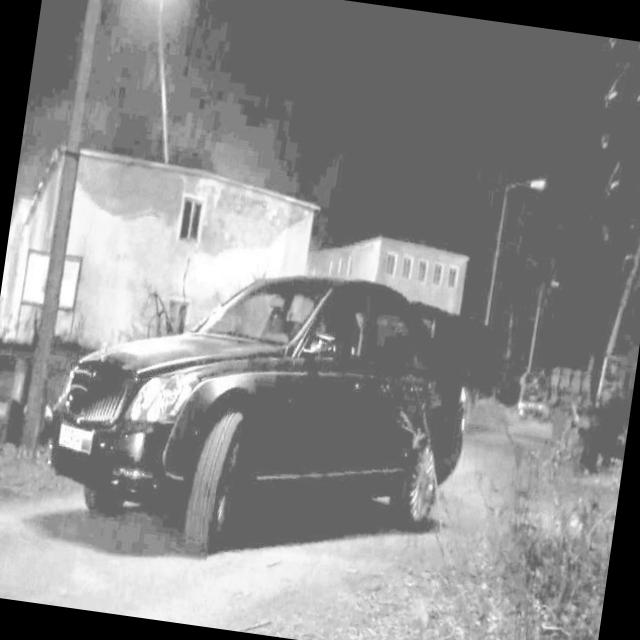Car: (37, 226, 508, 561)
